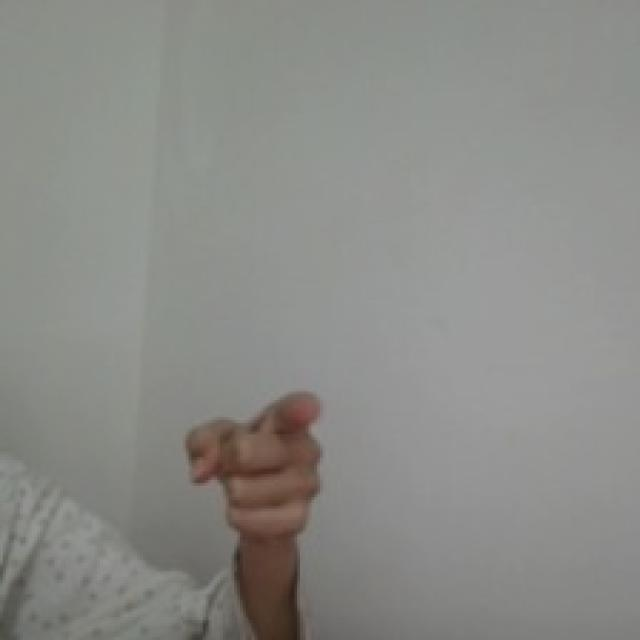you: (175, 380, 338, 547)
